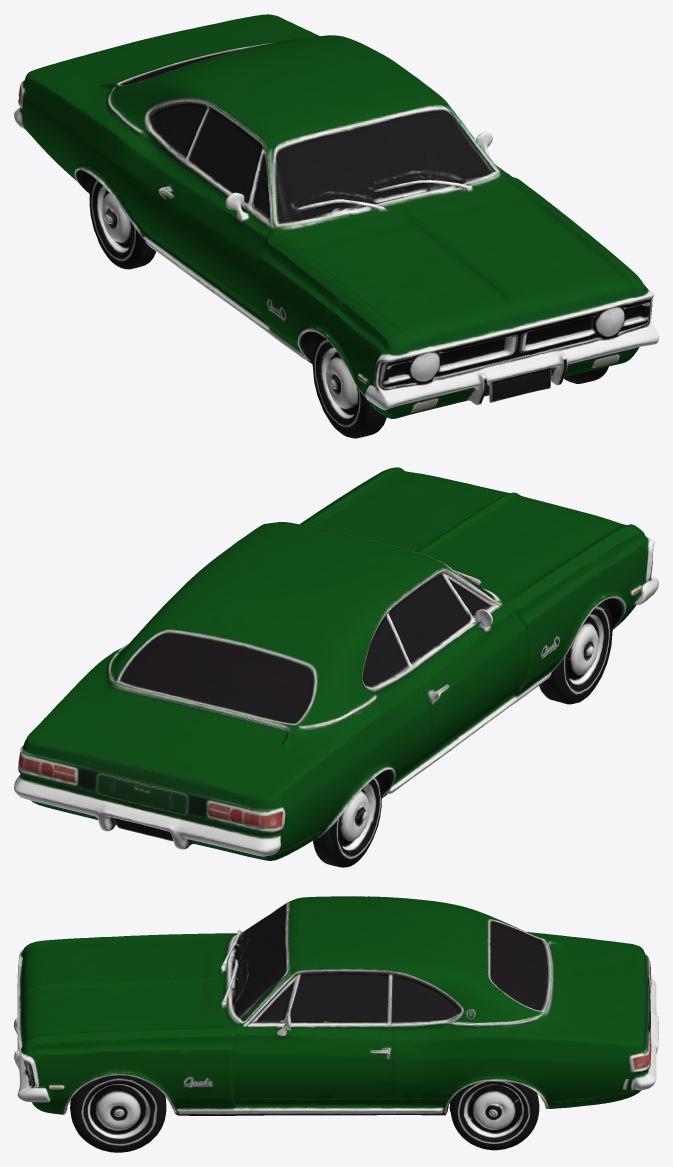
Rendered from carro11.glb.
The picture shows the model from 3 angles, top to bottom: view 1: azimuth 30°, elevation 25°; view 2: azimuth 150°, elevation 25°; view 3: azimuth 270°, elevation 25°; orthographic projection. The views are drawn at different scales.
Parts seen in each view (by area): view 1: Body, Wheel_FR, Wheel_RR; view 2: Body, Wheel_FR, Wheel_RR; view 3: Body, Wheel_FL, Wheel_RL.
Boxes of the visible parts, <box> form: Body: <box>14,14,658,438</box>; Wheel_FR: <box>312,334,386,438</box>; Wheel_RR: <box>86,172,155,268</box>; Body: <box>14,467,658,867</box>; Wheel_FR: <box>539,601,612,704</box>; Wheel_RR: <box>330,768,391,866</box>; Body: <box>14,896,658,1150</box>; Wheel_FL: <box>70,1075,166,1152</box>; Wheel_RL: <box>450,1079,537,1149</box>.
Size of the model in its own units: 0.8089 by 0.5753 by 1.9.
1 material, 1 textured.
